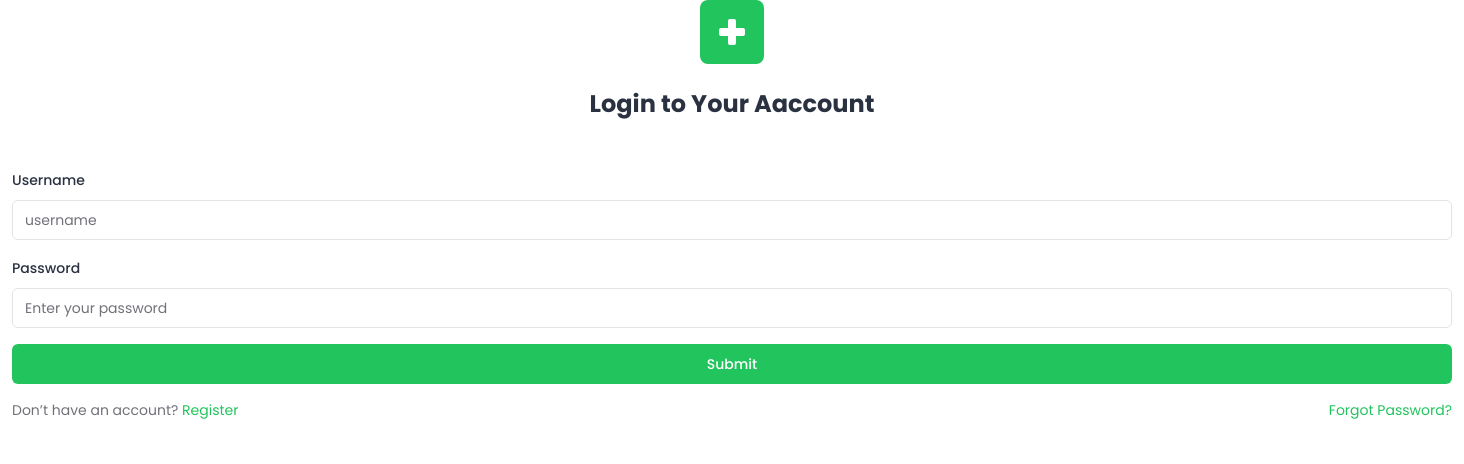
it: LoginForm Component › shows error message on invalid data
# Typing invalid username and password
Type "testuser" into the field with placeholder "Username" at (732, 220), box [12,200,1452,240]
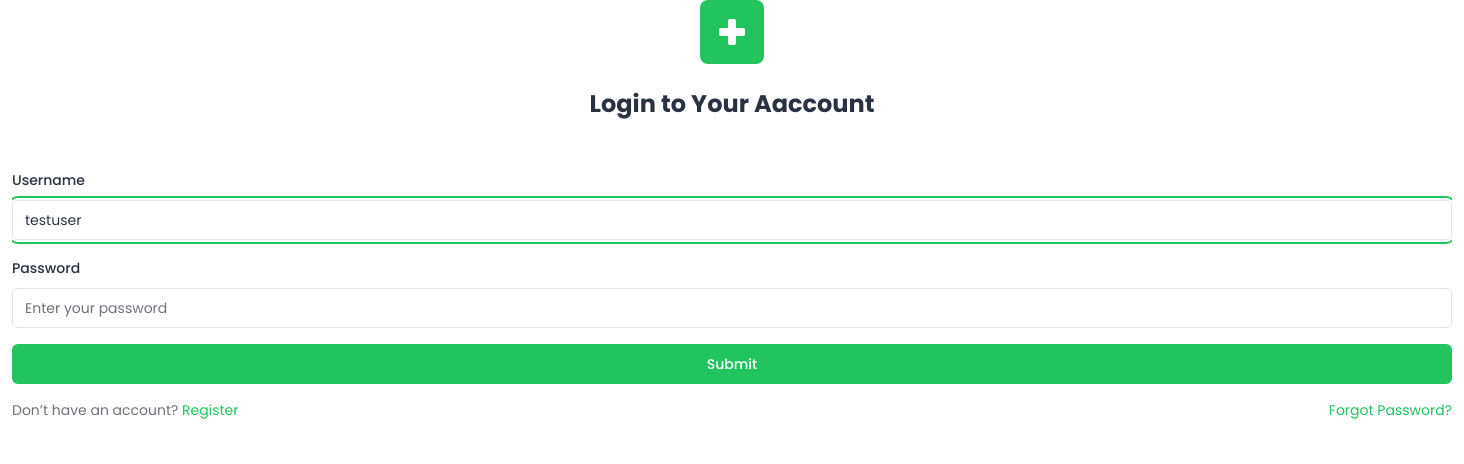
Type "pass" into the password field with placeholder "Enter your password" at (732, 308), box [12,288,1452,328]
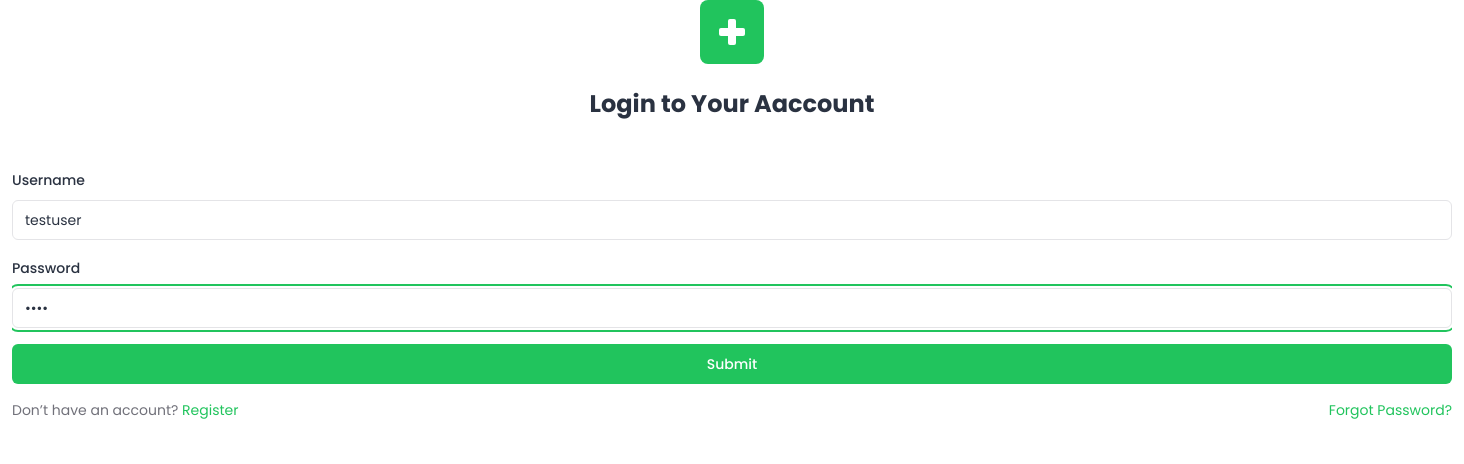
# Clicking the submit button
Click the button "Submit" at (732, 364), box [12,344,1452,384]
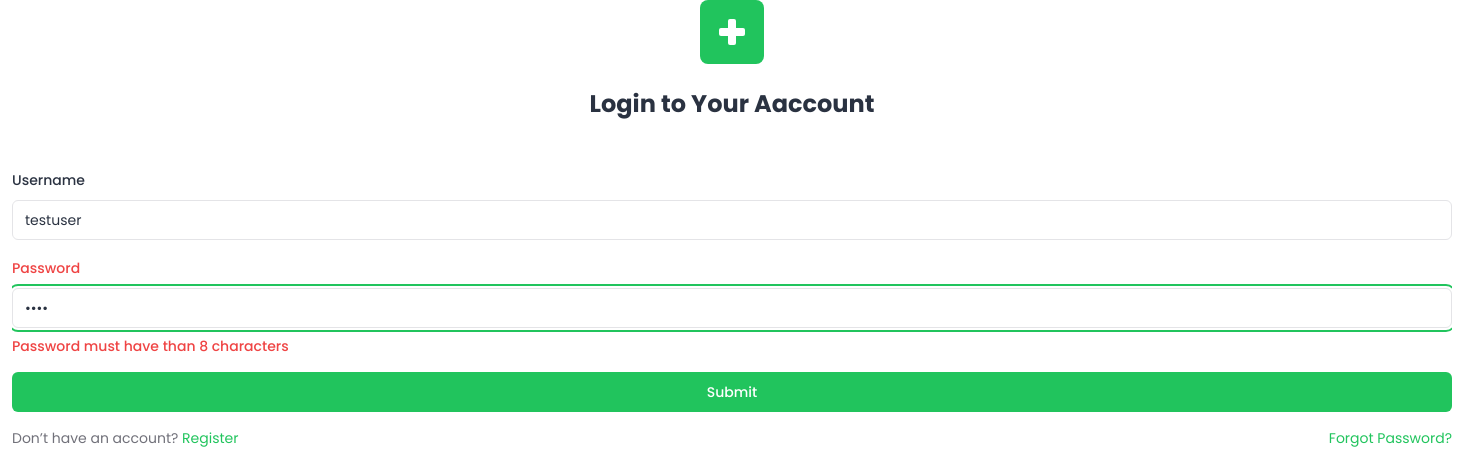
Check: the text "Password must have than 8 characters" is shown, box [12,336,289,356]
